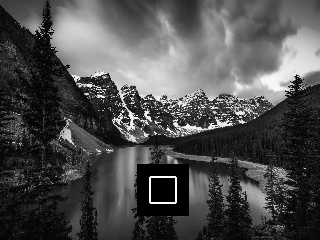square: (138, 164, 189, 215)
